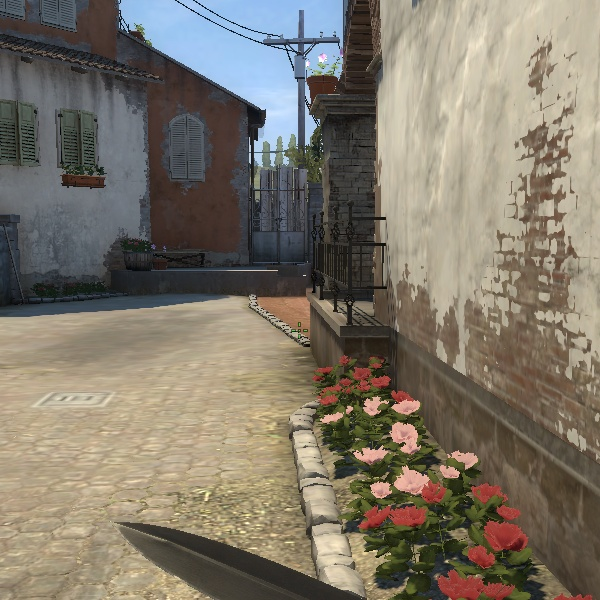ct_body: (283, 338, 568, 600)
